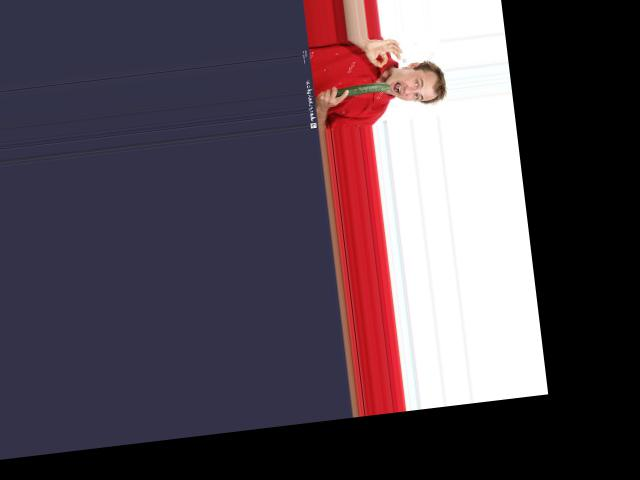cucumber: (335, 82, 390, 96)
